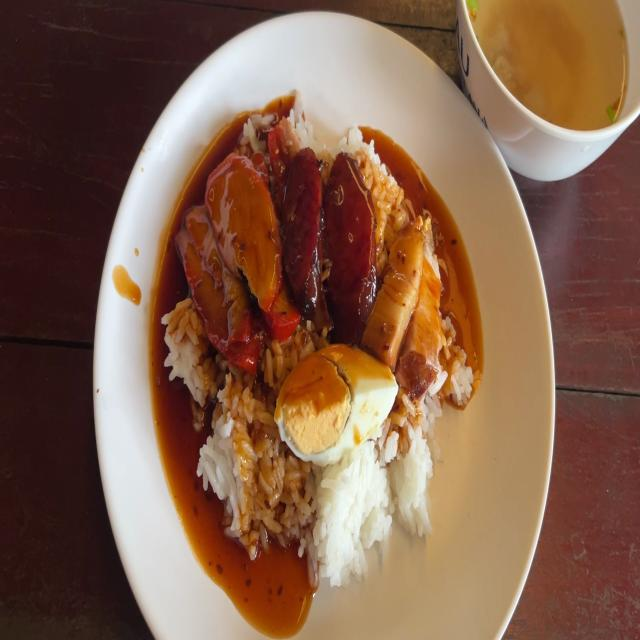01boiled_egg: (276, 337, 406, 459)
01chainese_sausage: (289, 148, 377, 330), (326, 152, 372, 339), (280, 144, 321, 302)
01crispy_pork: (366, 204, 446, 379), (373, 221, 425, 354), (414, 209, 448, 390)
01red_pork: (182, 145, 286, 362), (180, 206, 257, 374), (207, 162, 283, 314)
01red_pork_and_crispy_pork: (167, 100, 474, 572)
01rice: (290, 460, 439, 570), (186, 370, 276, 548), (287, 73, 369, 155), (405, 374, 436, 526), (165, 295, 201, 394), (448, 328, 474, 413)
